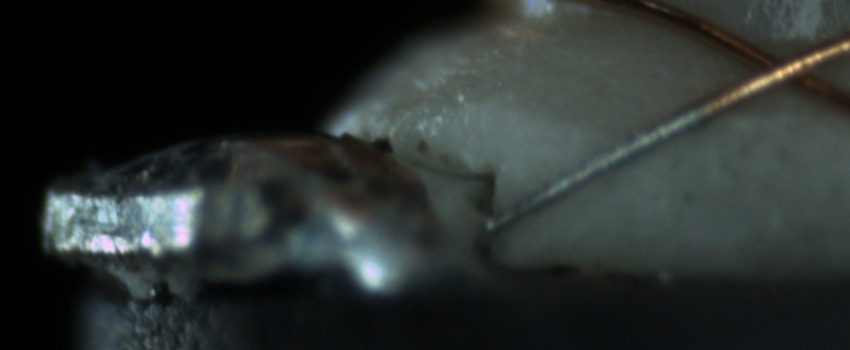CL: (720, 34, 832, 104)
TS: (486, 103, 708, 237)
